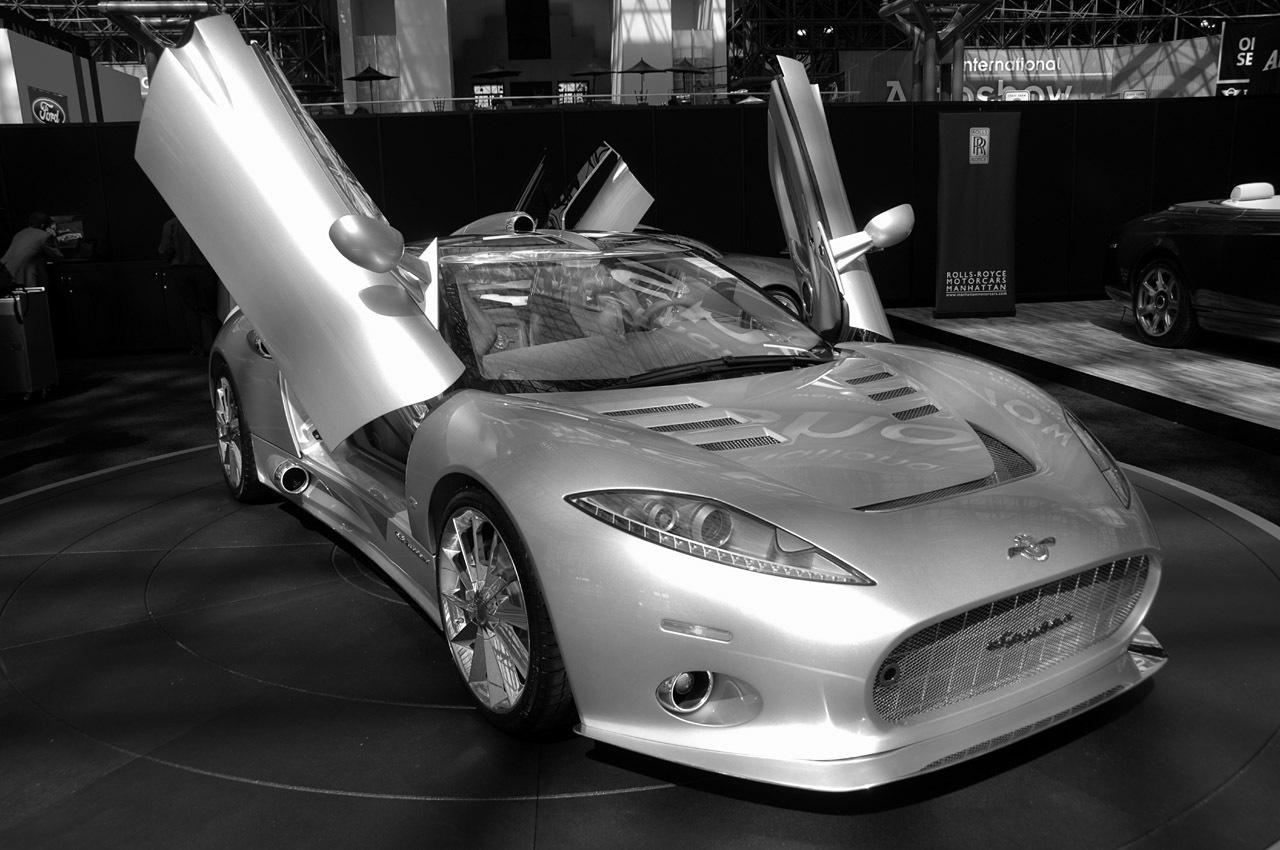car: (126, 3, 1178, 813)
